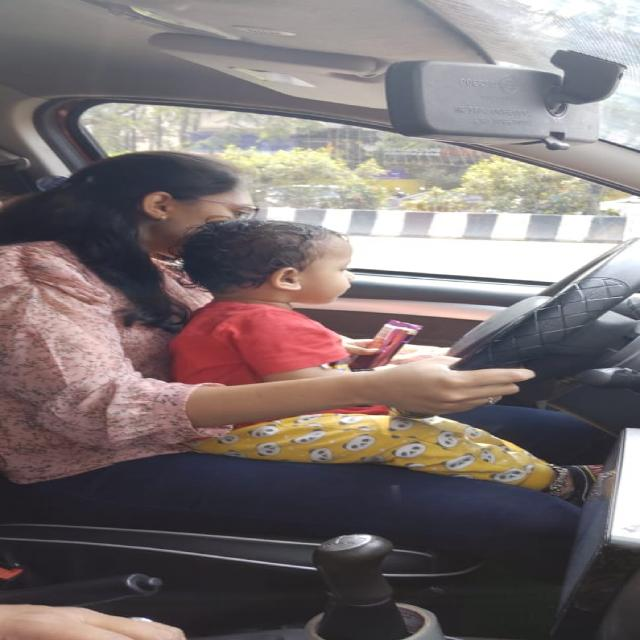child: (188, 218, 366, 314)
person: (30, 141, 274, 254)
